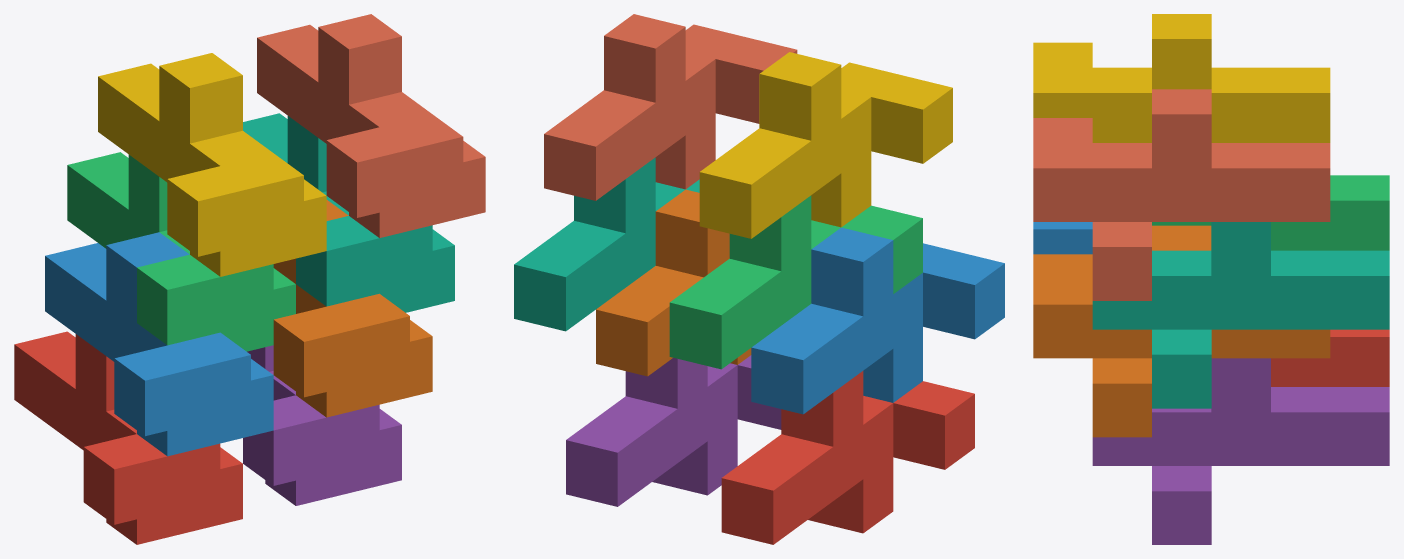
Rendered from tiling.obj.
3 renders of one model, left to right at view 1: azimuth 30°, elevation 25°; view 2: azimuth 150°, elevation 25°; view 3: azimuth 270°, elevation 25°, orthographic. The views are drawn at different scales.
Parts seen in each view (by area): view 1: copy_1_domain_8, copy_1_domain_4, copy_1_domain_2, copy_1_domain_1, copy_1_domain_3, copy_1_domain_6, copy_1_domain_7, copy_1_domain_5; view 2: copy_1_domain_4, copy_1_domain_2, copy_1_domain_8, copy_1_domain_1, copy_1_domain_5, copy_1_domain_3, copy_1_domain_7, copy_1_domain_6; view 3: copy_1_domain_8, copy_1_domain_7, copy_1_domain_5, copy_1_domain_4, copy_1_domain_6, copy_1_domain_3, copy_1_domain_1, copy_1_domain_2.
Part boxes in pixels (left/top/right/bottom): copy_1_domain_8: left=257, top=14, right=485, bottom=237; copy_1_domain_4: left=98, top=53, right=326, bottom=276; copy_1_domain_2: left=45, top=232, right=273, bottom=456; copy_1_domain_1: left=14, top=331, right=242, bottom=544; copy_1_domain_3: left=67, top=152, right=295, bottom=351; copy_1_domain_6: left=273, top=200, right=432, bottom=417; copy_1_domain_7: left=243, top=113, right=454, bottom=312; copy_1_domain_5: left=243, top=345, right=401, bottom=505; copy_1_domain_4: left=699, top=52, right=952, bottom=238; copy_1_domain_2: left=751, top=227, right=1004, bottom=414; copy_1_domain_8: left=544, top=14, right=797, bottom=200; copy_1_domain_1: left=721, top=371, right=974, bottom=544; copy_1_domain_5: left=566, top=355, right=781, bottom=506; copy_1_domain_3: left=669, top=195, right=922, bottom=369; copy_1_domain_7: left=514, top=157, right=699, bottom=331; copy_1_domain_6: left=596, top=189, right=751, bottom=376; copy_1_domain_8: left=1033, top=89, right=1330, bottom=300; copy_1_domain_7: left=1092, top=222, right=1389, bottom=408; copy_1_domain_5: left=1092, top=358, right=1389, bottom=544; copy_1_domain_4: left=1033, top=14, right=1330, bottom=142; copy_1_domain_6: left=1033, top=225, right=1330, bottom=437; copy_1_domain_3: left=1152, top=175, right=1389, bottom=250; copy_1_domain_1: left=1271, top=329, right=1389, bottom=386; copy_1_domain_2: left=1033, top=222, right=1092, bottom=254.
Bounding box in the file's own units: 7 × 8 × 6.
